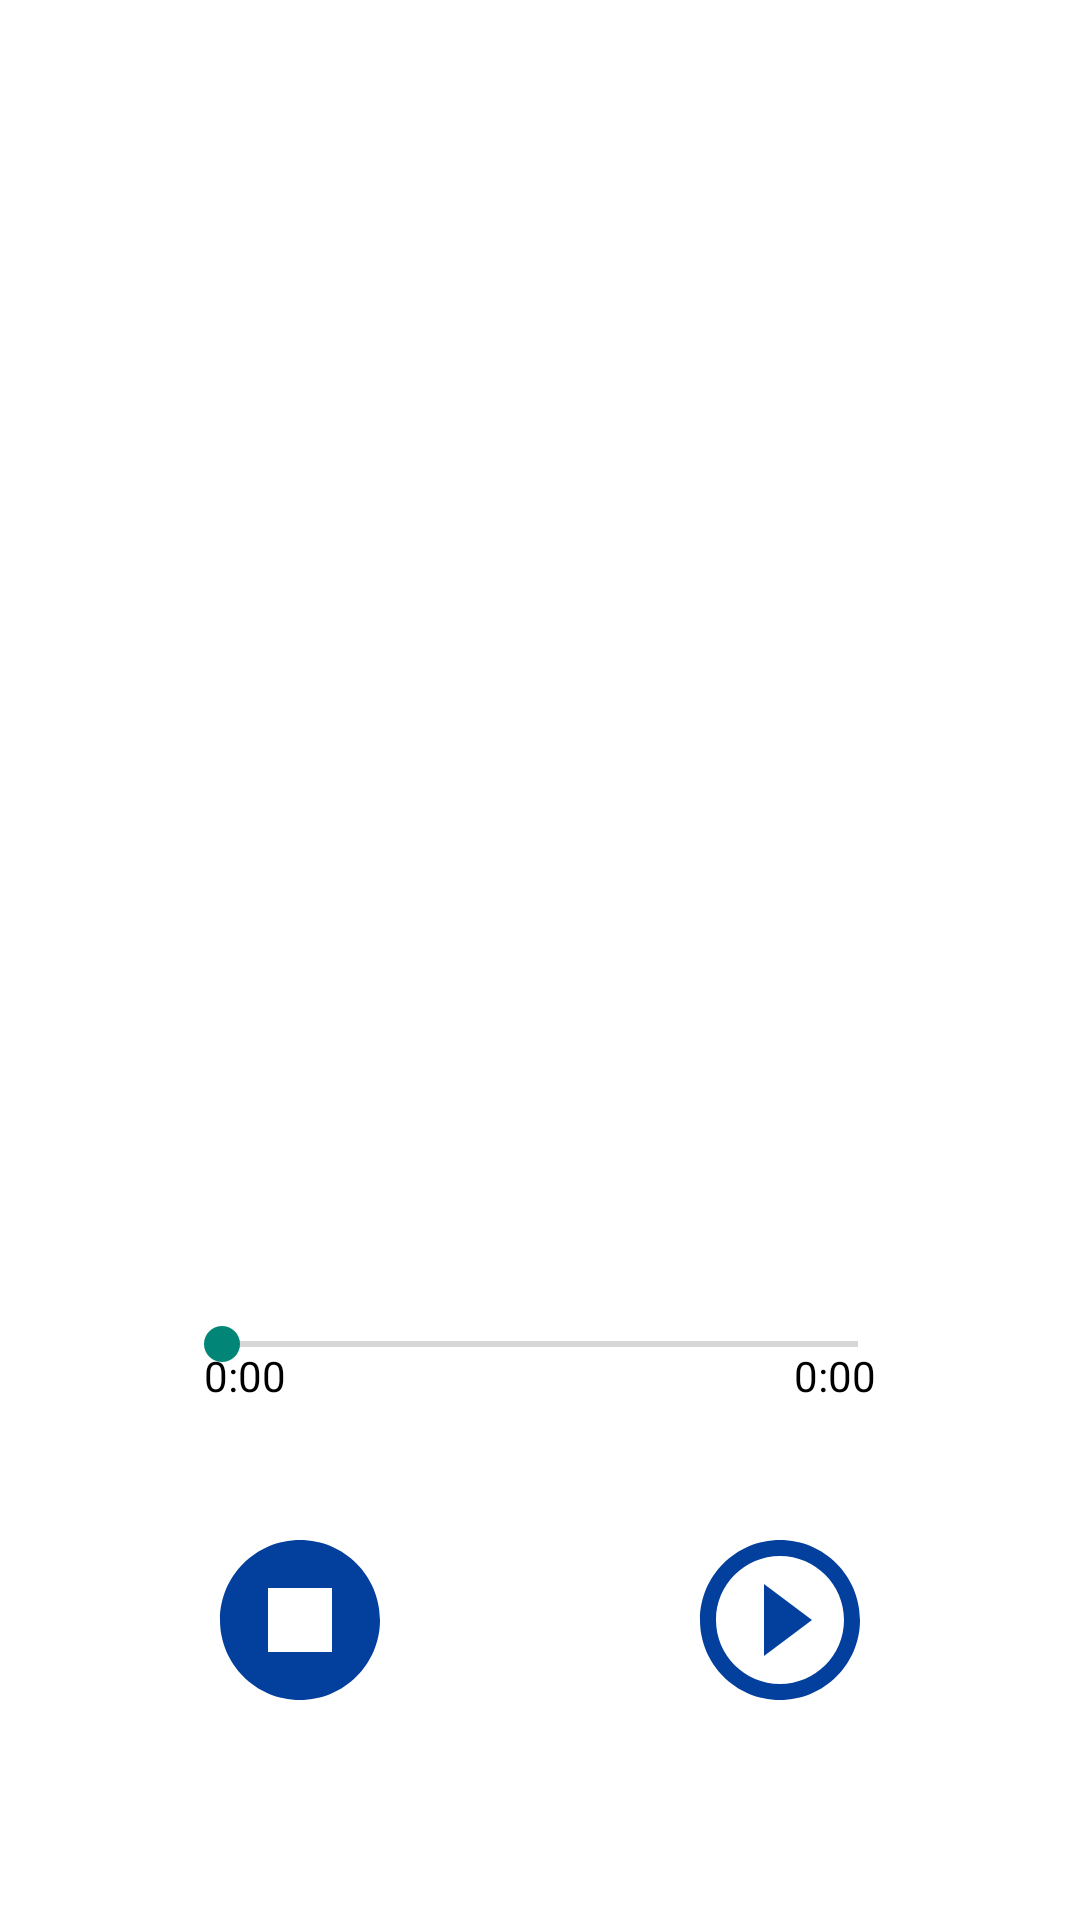

Locate icon controls on the screen. Image size 1080w x 1920h, boxes as [x1=x1, y1=y1, x2=x2, y2=y2].
play circle: [x1=700, y1=1540, x2=860, y2=1700]
stop circle: [x1=220, y1=1540, x2=380, y2=1700]
